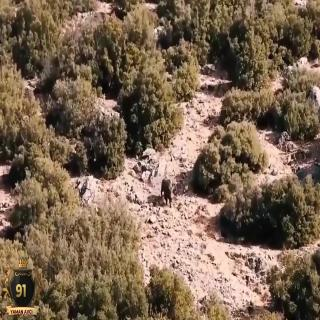Pig: (152, 169, 176, 213)
